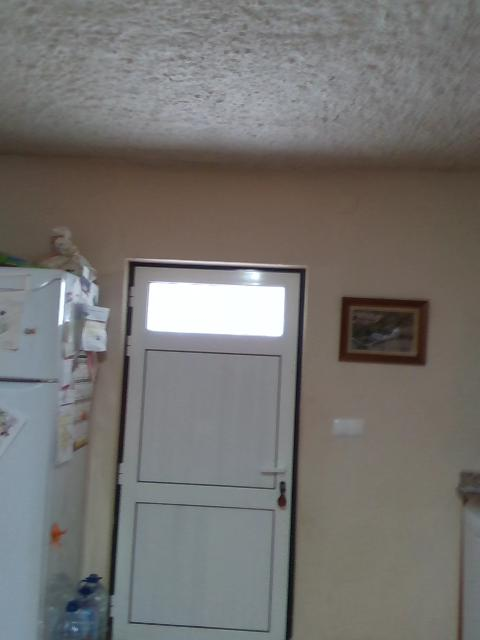door: (101, 260, 304, 638)
